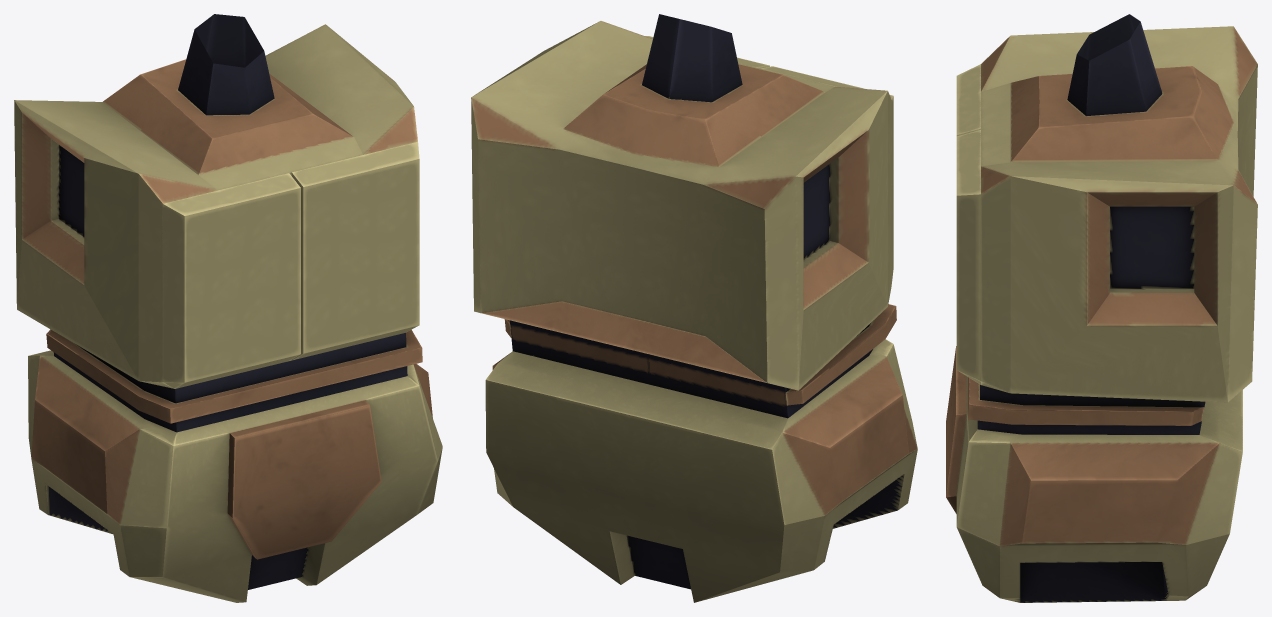
File: Missile Base.fbx
The picture shows the model from 3 angles, left to right: view 1: azimuth 30°, elevation 25°; view 2: azimuth 150°, elevation 25°; view 3: azimuth 270°, elevation 25°; orthographic projection. The views are drawn at different scales.
Parts seen in each view (by area): view 1: Missile Base, R_Door, L_Door; view 2: Missile Base, R_Door; view 3: Missile Base, L_Door, R_Door.
Boxes of the visible parts, left/top/right/bottom form: Missile Base: left=14, top=14, right=442, bottom=602; R_Door: left=163, top=173, right=300, bottom=388; L_Door: left=291, top=141, right=419, bottom=360; Missile Base: left=471, top=14, right=917, bottom=602; R_Door: left=761, top=66, right=893, bottom=283; Missile Base: left=946, top=14, right=1257, bottom=602; L_Door: left=956, top=130, right=980, bottom=384; R_Door: left=956, top=64, right=980, bottom=136.
Size of the model in its own units: 281 by 442 by 222.
Materials: 1 (1 with a texture image).
